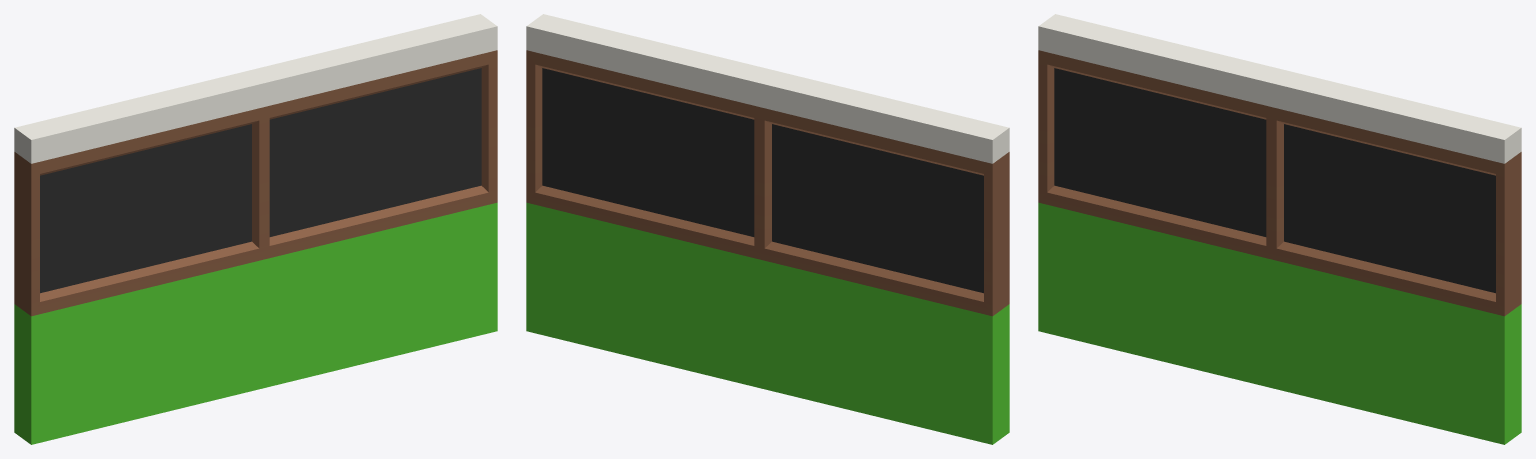
The model's file is LongWindow.fbx.
3 renders of one model, left to right at view 1: azimuth 30°, elevation 25°; view 2: azimuth 150°, elevation 25°; view 3: azimuth 330°, elevation 25°, orthographic.
Parts seen in each view (by area): view 1: Wall.002; view 2: Wall.002; view 3: Wall.002.
Part boxes in pixels (<box>): Wall.002: <box>14,14,497,444</box>; Wall.002: <box>526,14,1009,444</box>; Wall.002: <box>1038,14,1521,444</box>.
Bounding box in the file's own units: 400 × 250 × 25.
Materials: 2 (2 with a texture image).
